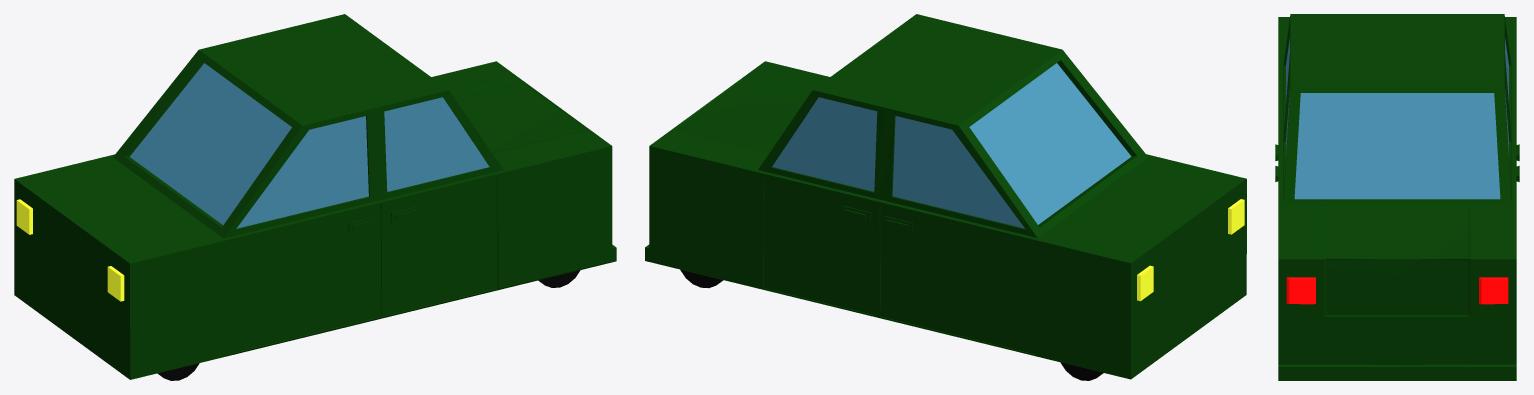
The model's file is Car_revised.FBX.
3 views of the same model, side by side, from view 1: azimuth 30°, elevation 25°; view 2: azimuth 150°, elevation 25°; view 3: azimuth 270°, elevation 25° (orthographic). The views are drawn at different scales.
Visible parts, largest first — view 1: Box001; view 2: Box001; view 3: Box001.
Part boxes in pixels (box(x1,y1,x2,y2)): Box001: box(14, 14, 616, 379); Box001: box(645, 14, 1246, 379); Box001: box(1275, 14, 1519, 380).
Size of the model in its own units: 168 by 72.85 by 70.33.
